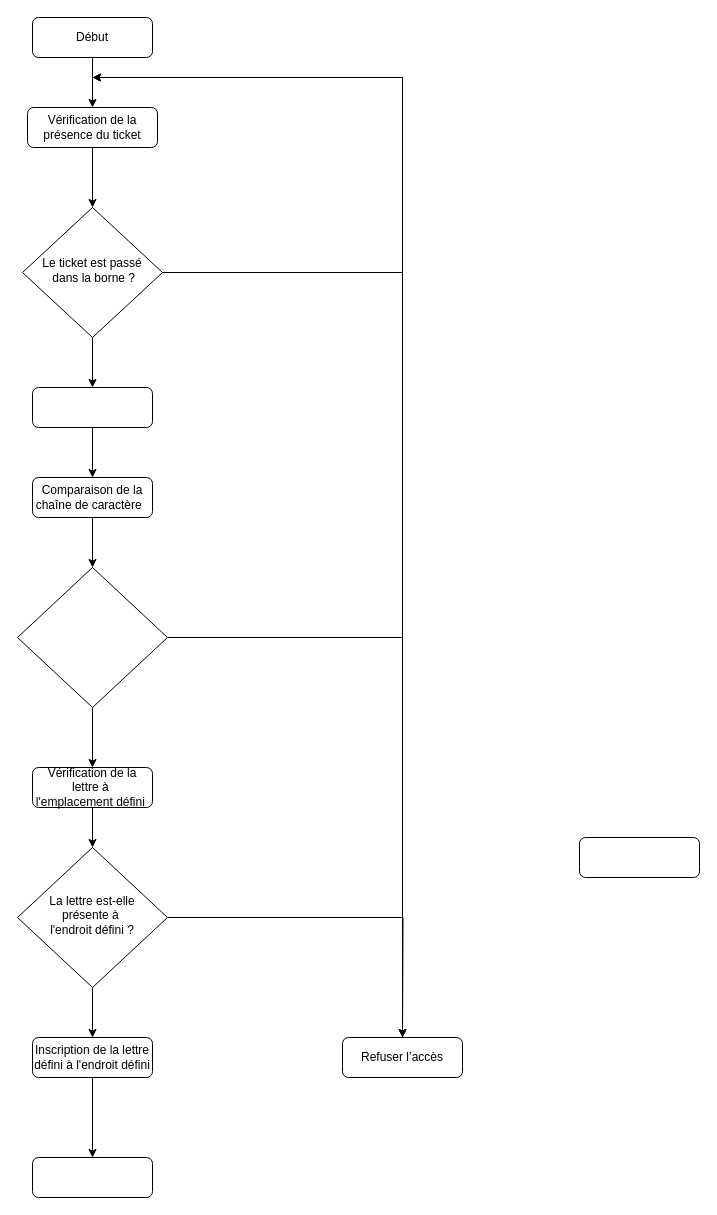
Image size: 717x1215. Some labels were removed from this diagram. The centre of each missing label's shape, as x and y in pixels:
"Autoriser l'accès" belongs at (x=92, y=1177).
"La chaîne de caractère correspond a celle qu'on a prédéfini ?" belongs at (x=92, y=637).
"Vérification de la lettre a l'emplacement défini" belongs at (x=639, y=857).
"Vérification de la présence de la chaîne de caractère" belongs at (x=92, y=407).
